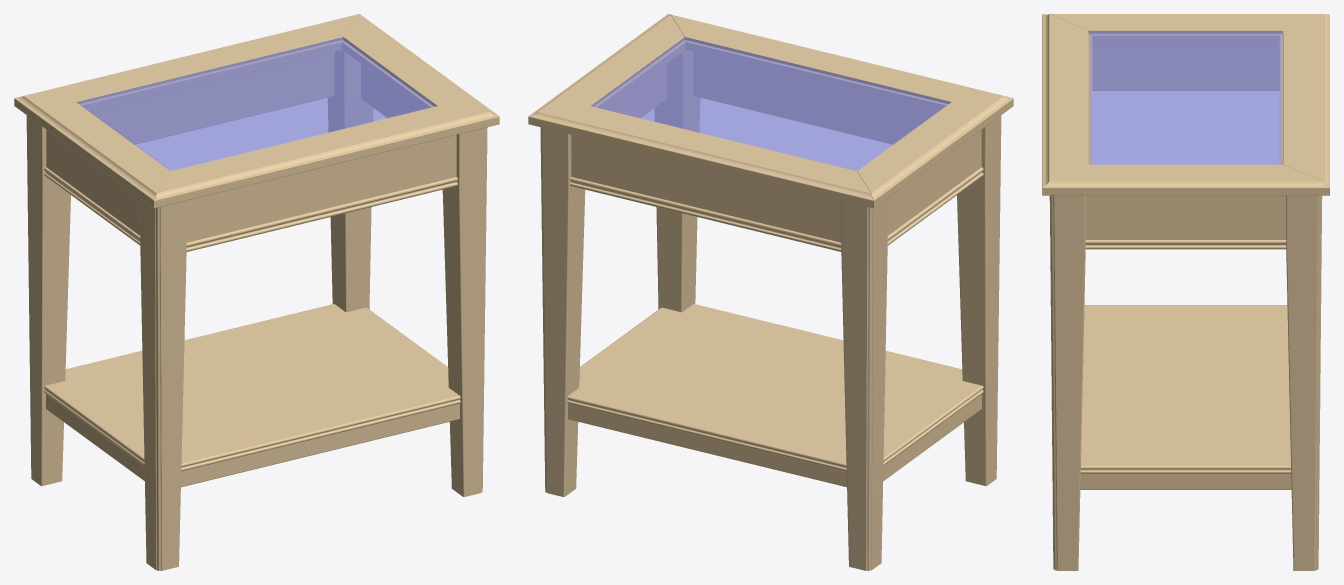
Rendered from Table IKEA Liatorp N200821.obj.
The picture shows the model from 3 angles, left to right: view 1: azimuth 30°, elevation 25°; view 2: azimuth 150°, elevation 25°; view 3: azimuth 270°, elevation 25°; orthographic projection. The views are drawn at different scales.
Visible parts, largest first — view 1: Rectangle006, Rectangle005, Box002, Line014, Line012, Line013, Line015, Line017, Line016, Line018, Line019; view 2: Rectangle006, Rectangle005, Box002, Line015, Line017, Line016, Line014, Line012, Line013, Line018, Line019; view 3: Rectangle006, Rectangle005, Box002, Line013, Line016, Line019, Line018.
Boxes of the visible parts, x1,y1,x2,y2 form: Rectangle006: [44, 304, 460, 487]; Rectangle005: [14, 14, 499, 208]; Box002: [77, 37, 436, 170]; Line014: [140, 198, 186, 570]; Line012: [186, 135, 457, 251]; Line013: [442, 127, 487, 496]; Line015: [26, 115, 70, 486]; Line017: [90, 52, 334, 144]; Line016: [328, 50, 372, 312]; Line018: [44, 130, 140, 245]; Line019: [361, 64, 422, 117]; Rectangle006: [567, 304, 983, 487]; Rectangle005: [528, 14, 1013, 208]; Box002: [591, 37, 950, 170]; Line015: [841, 198, 887, 570]; Line017: [570, 135, 841, 251]; Line016: [540, 127, 585, 496]; Line014: [957, 115, 1001, 486]; Line012: [693, 52, 937, 144]; Line013: [655, 50, 699, 312]; Line018: [887, 130, 983, 245]; Line019: [605, 64, 666, 117]; Rectangle006: [1080, 305, 1291, 489]; Rectangle005: [1042, 14, 1329, 195]; Box002: [1089, 31, 1282, 164]; Line013: [1049, 195, 1085, 570]; Line016: [1286, 195, 1322, 570]; Line019: [1085, 195, 1286, 249]; Line018: [1092, 44, 1279, 90].
Size of the model in its own units: 5700 by 6000 by 4000.
